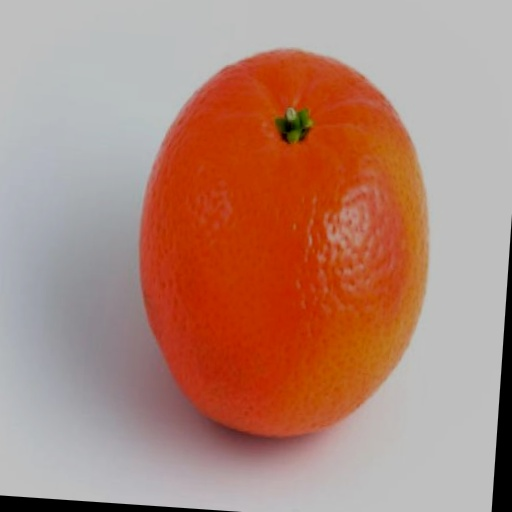fruit: (140, 50, 427, 436)
